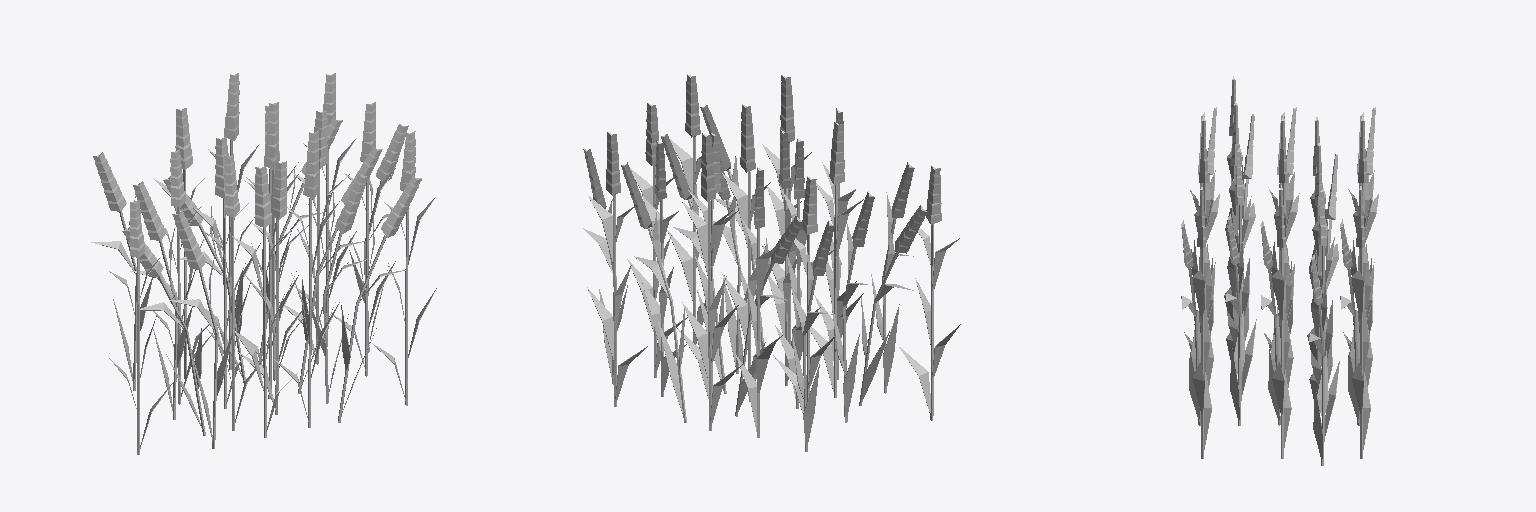
The model's file is ble.obj.
The picture shows the model from 3 angles: view 1: azimuth 30°, elevation 25°; view 2: azimuth 150°, elevation 25°; view 3: azimuth 270°, elevation 25°; orthographic projection.
Visible parts, largest first — view 1: ble; view 2: ble; view 3: ble.
Part boxes in pixels (x1,y1,x2,y2): ble: (91,73,436,454); ble: (583,74,960,451); ble: (1181,76,1378,465).
Bounding box in the file's own units: 16.21 × 13.45 × 8.16.